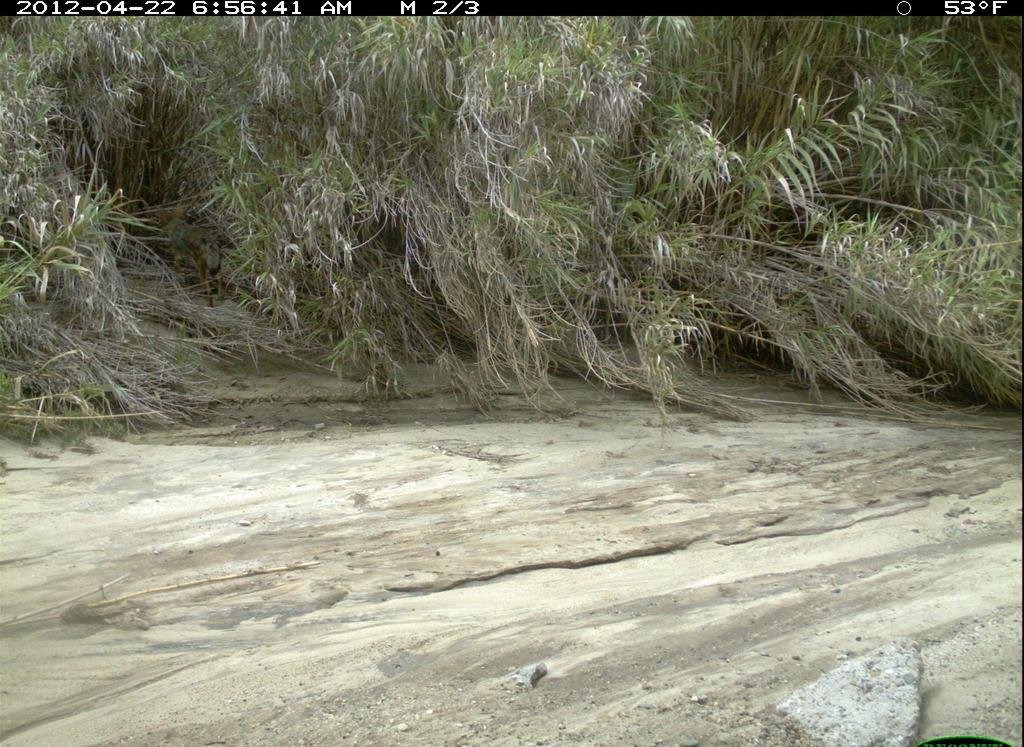coyote: (152, 200, 244, 314)
